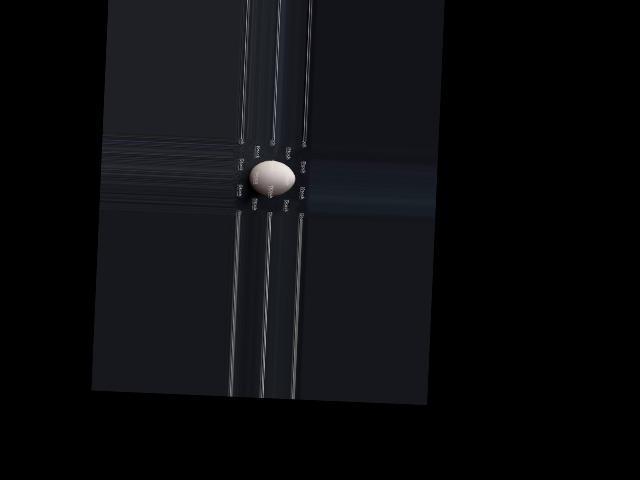egg: (248, 160, 295, 197)
